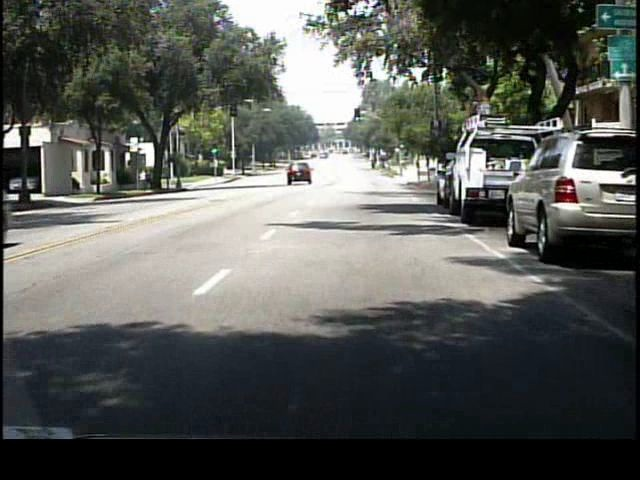person: (140, 166, 149, 190)
